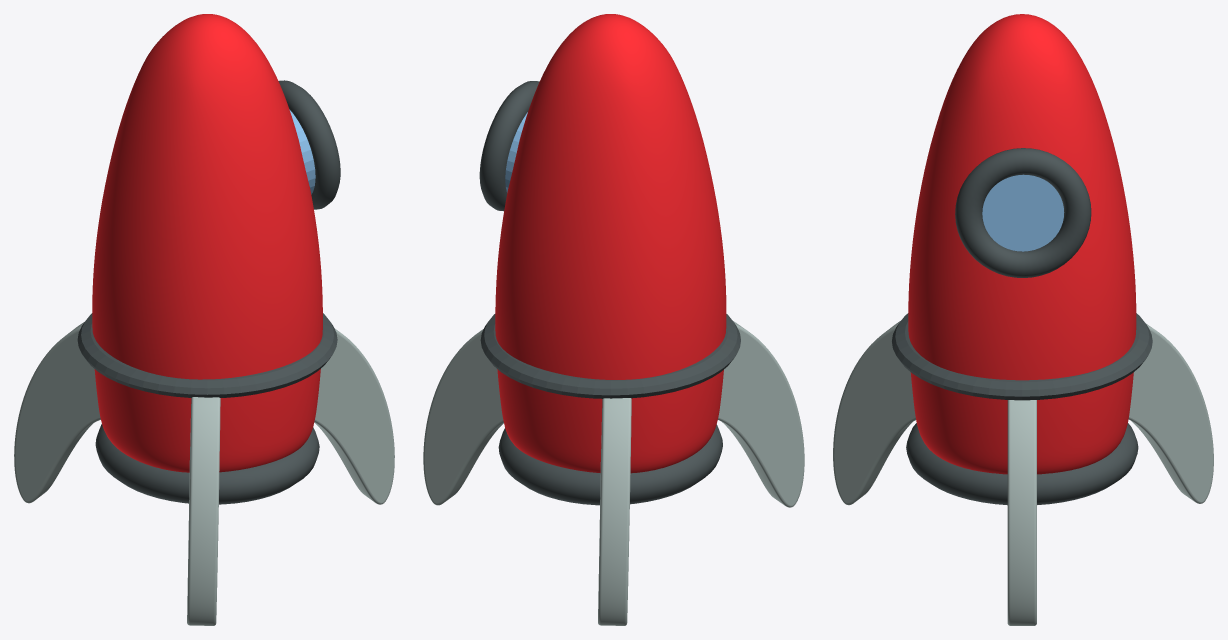
The model's file is Rocket2.fbx.
3 views of the same model, side by side, from view 1: azimuth 30°, elevation 25°; view 2: azimuth 150°, elevation 25°; view 3: azimuth 270°, elevation 25° (orthographic).
Visible parts, largest first — view 1: Cube, BezierCircle.002, BezierCircle, BezierCircle.001, Torus, Torus.002, Torus.001, Cylinder; view 2: Cube, BezierCircle.001, BezierCircle, BezierCircle.002, Torus, Torus.002, Torus.001; view 3: Cube, Torus.001, BezierCircle.001, BezierCircle.002, BezierCircle, Torus, Torus.002, Cylinder.
Boxes of the visible parts, left/top/right/bottom form: Cube: left=92, top=14, right=322, bottom=472; BezierCircle.002: left=14, top=322, right=100, bottom=503; BezierCircle: left=314, top=328, right=394, bottom=504; BezierCircle.001: left=187, top=397, right=220, bottom=625; Torus: left=95, top=424, right=319, bottom=504; Torus.002: left=77, top=313, right=337, bottom=397; Torus.001: left=278, top=80, right=340, bottom=209; Cylinder: left=289, top=109, right=315, bottom=194; Cube: left=495, top=14, right=726, bottom=473; BezierCircle.001: left=718, top=321, right=804, bottom=507; BezierCircle: left=423, top=329, right=503, bottom=505; BezierCircle.002: left=598, top=398, right=631, bottom=625; Torus: left=498, top=424, right=722, bottom=505; Torus.002: left=480, top=314, right=740, bottom=398; Torus.001: left=479, top=81, right=539, bottom=211; Cube: left=908, top=14, right=1136, bottom=474; Torus.001: left=955, top=148, right=1091, bottom=277; BezierCircle.001: left=833, top=321, right=915, bottom=505; BezierCircle.002: left=1128, top=323, right=1213, bottom=503; BezierCircle: left=1007, top=400, right=1036, bottom=625; Torus: left=906, top=423, right=1138, bottom=505; Torus.002: left=892, top=313, right=1152, bottom=400; Cylinder: left=982, top=174, right=1064, bottom=251.
Size of the model in its own units: 290 by 496 by 325.
